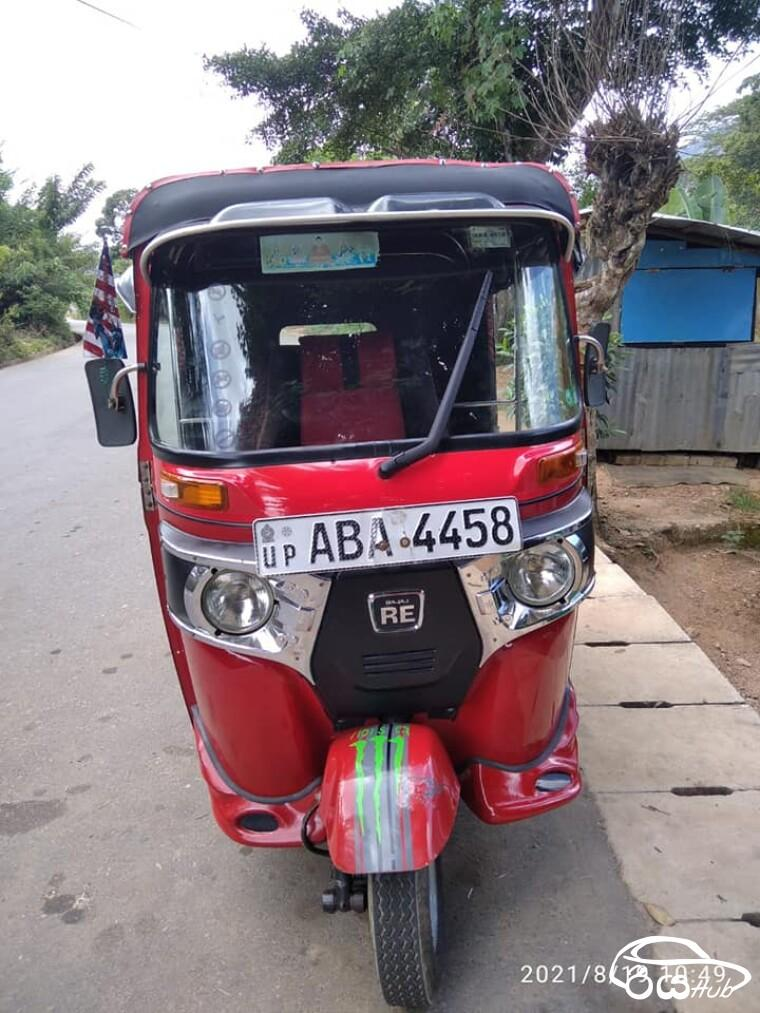threewheel: (85, 157, 611, 1013)
